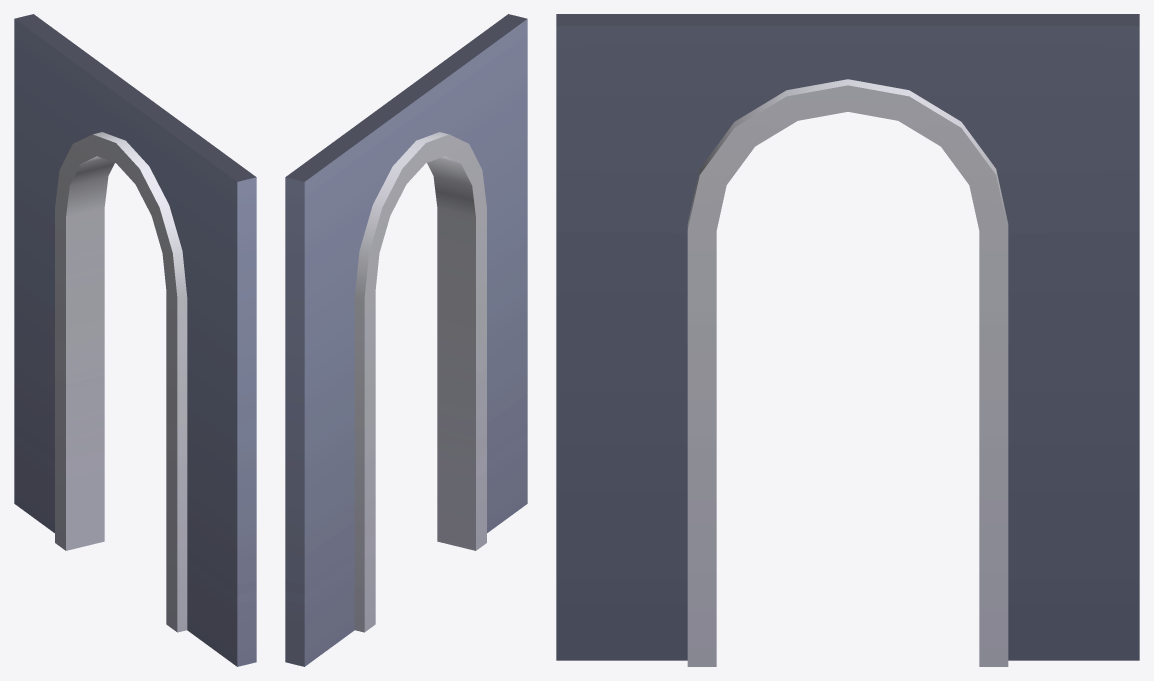
File: kenney-building-wall-doorway-round.glb
The picture shows the model from 3 angles, left to right: view 1: azimuth 30°, elevation 25°; view 2: azimuth 150°, elevation 25°; view 3: azimuth 270°, elevation 25°; orthographic projection. The views are drawn at different scales.
Visible parts, largest first — view 1: wall-doorway-round; view 2: wall-doorway-round; view 3: wall-doorway-round.
Part boxes in pixels (x1,y1,x2,y2): wall-doorway-round: [14, 14, 256, 666]; wall-doorway-round: [285, 14, 527, 666]; wall-doorway-round: [556, 14, 1139, 666].
Size of the model in its own units: 0.2001 by 2.4 by 2.
1 material, 1 textured.
